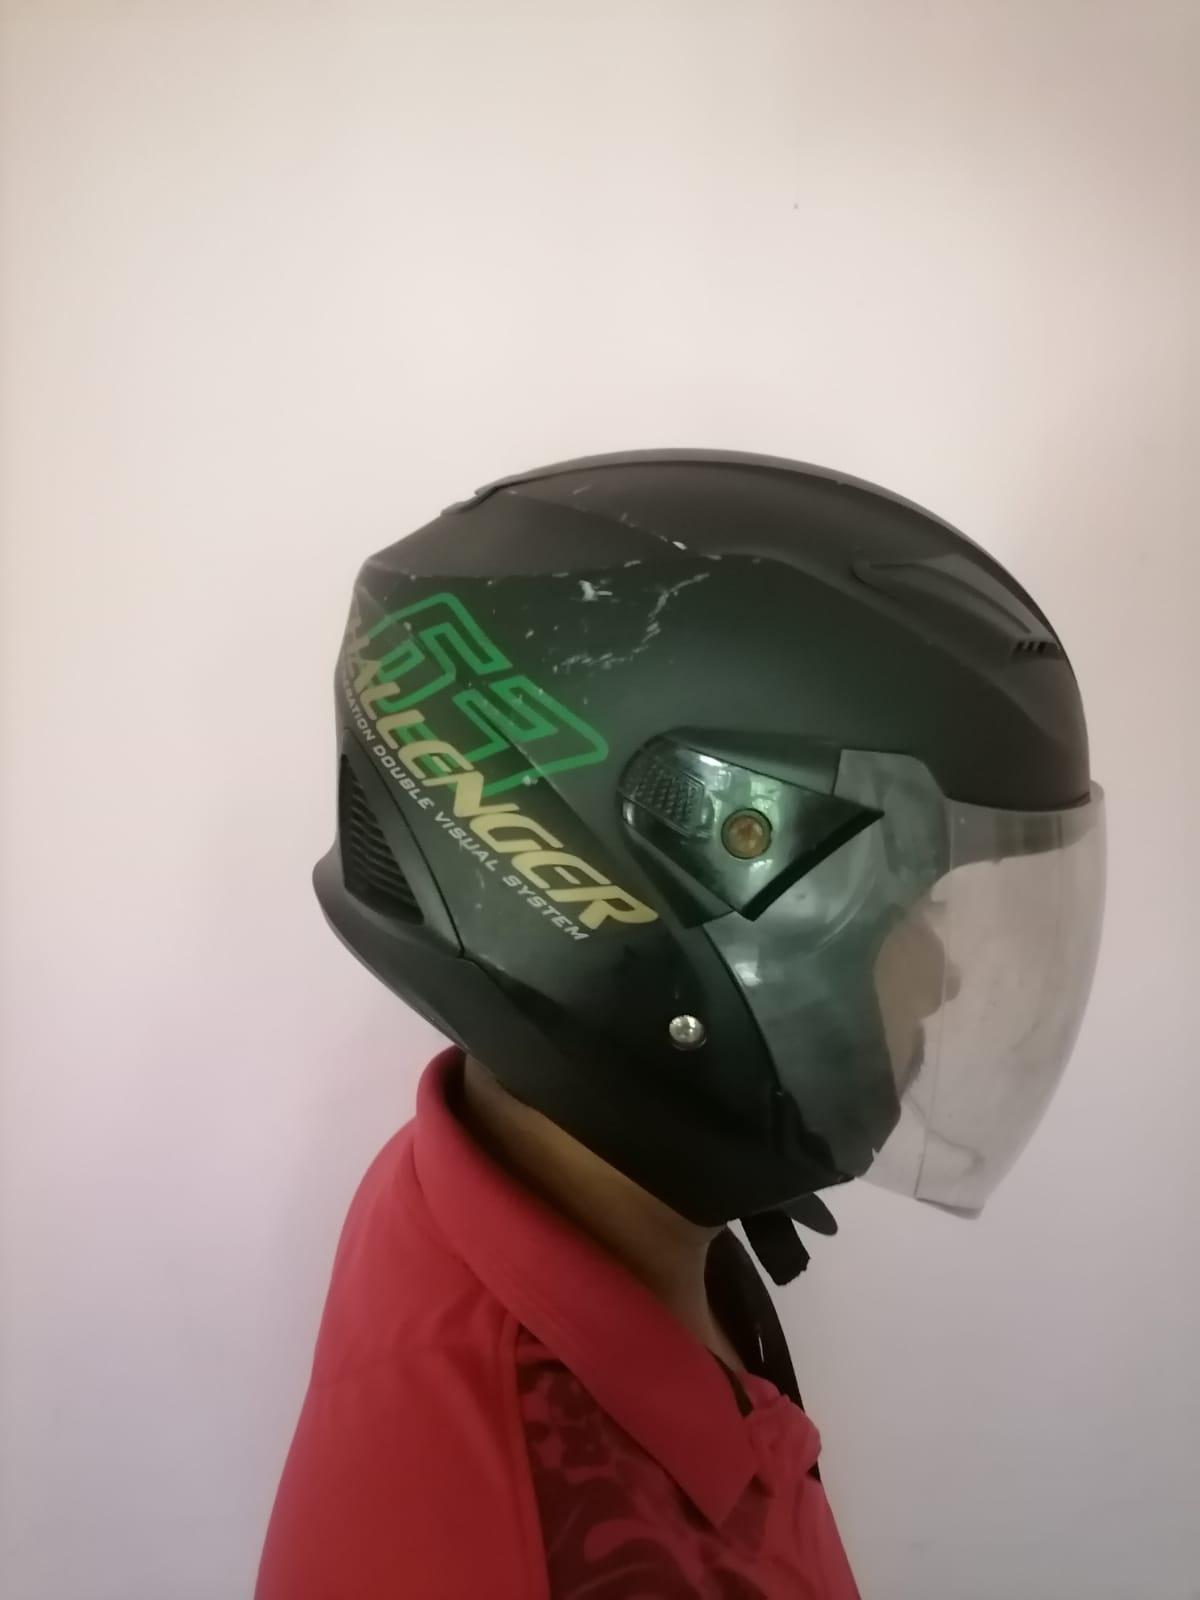helmet: (308, 447, 1111, 1251)
